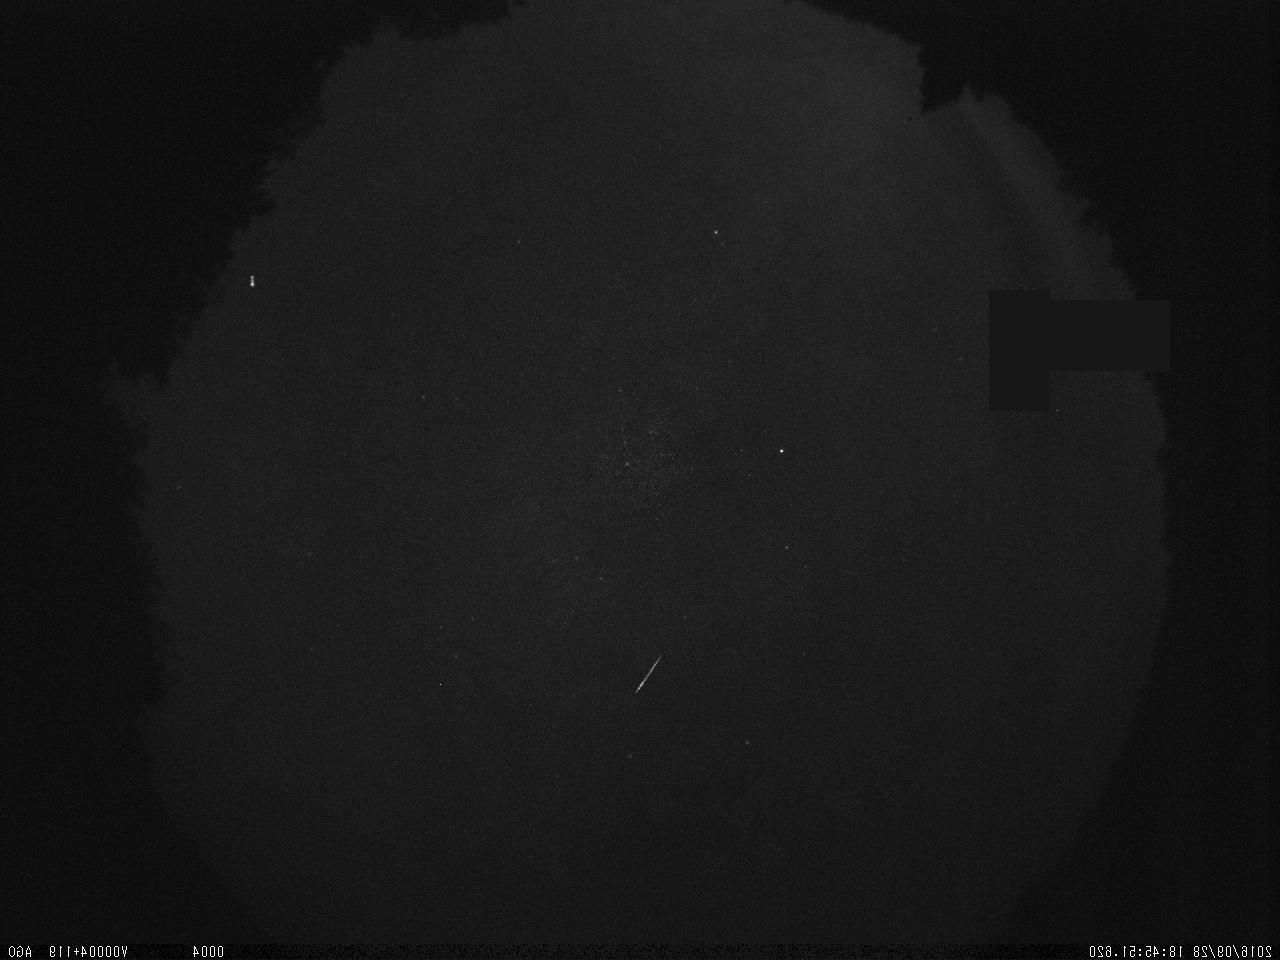meteor: (609, 645, 685, 717)
